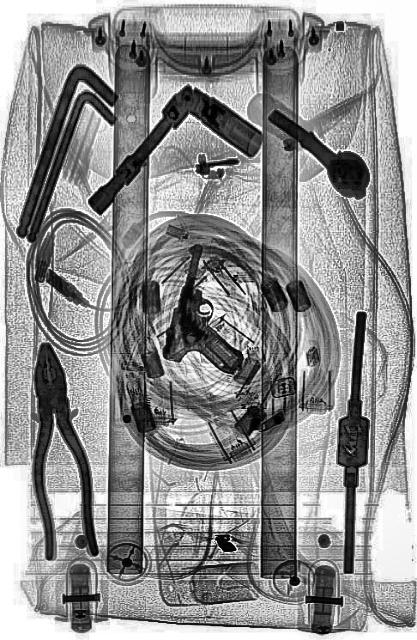Gun: (161, 240, 262, 390)
Pliers: (17, 337, 99, 566)
